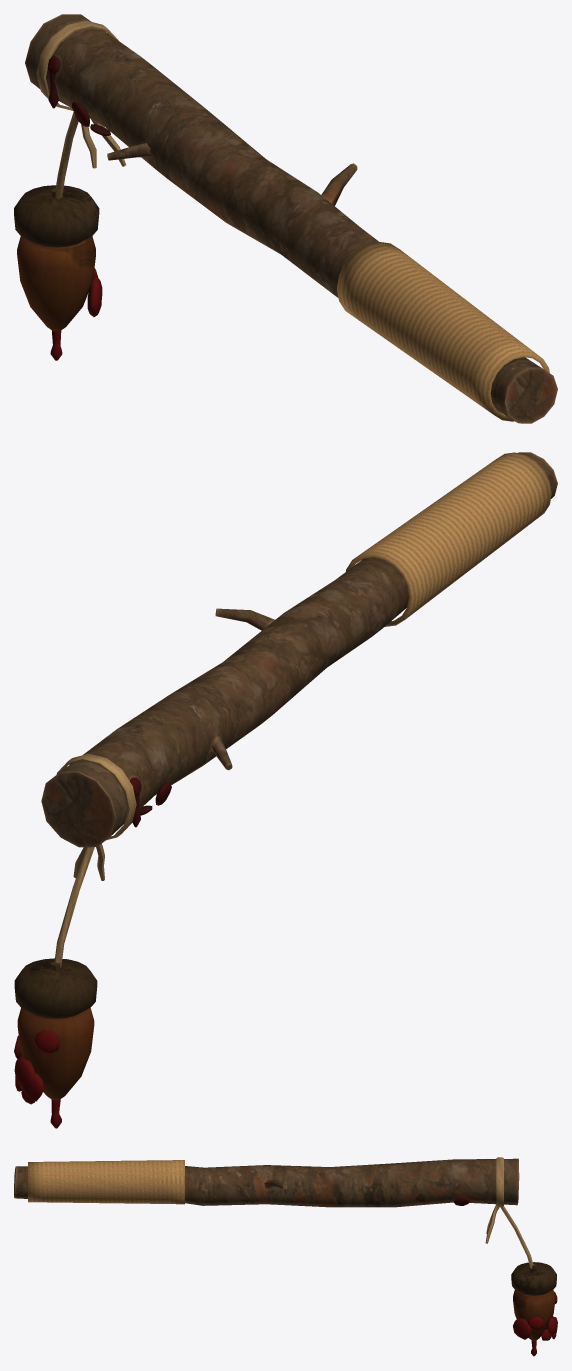
File: melee_acorn_knocker.glb
3 renders of one model, top to bottom at view 1: azimuth 30°, elevation 25°; view 2: azimuth 150°, elevation 25°; view 3: azimuth 270°, elevation 25°, orthographic. The views are drawn at different scales.
Visible parts, largest first — view 1: melee_acorn_knocker; view 2: melee_acorn_knocker; view 3: melee_acorn_knocker.
Boxes of the visible parts, x1,y1,x2,y2 form: melee_acorn_knocker: (14, 14, 557, 423); melee_acorn_knocker: (14, 452, 557, 1128); melee_acorn_knocker: (14, 1157, 557, 1356).
Size of the model in its own units: 0.0635 by 0.1638 by 0.4159.
Materials: 1 (1 with a texture image).
